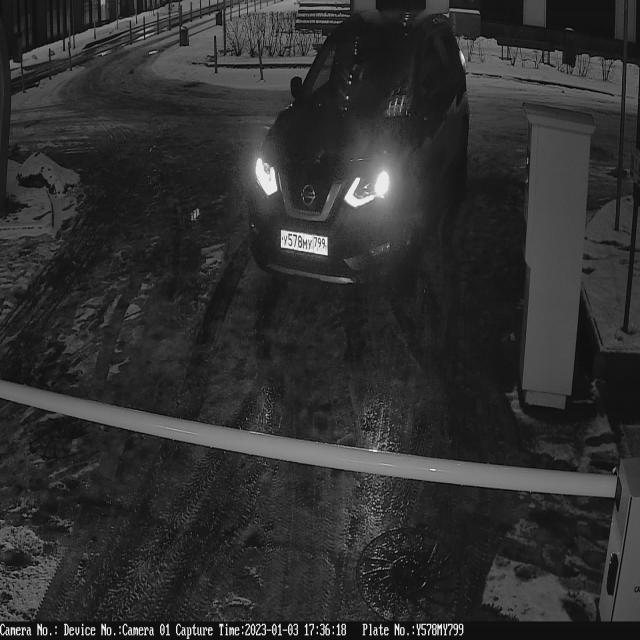car-plate-numbers: (280, 224, 332, 260)
